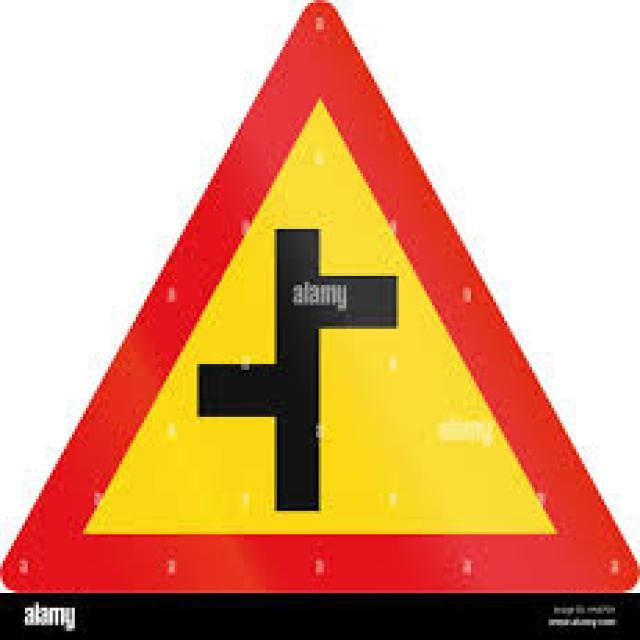staggered intersection: (18, 18, 613, 587)
